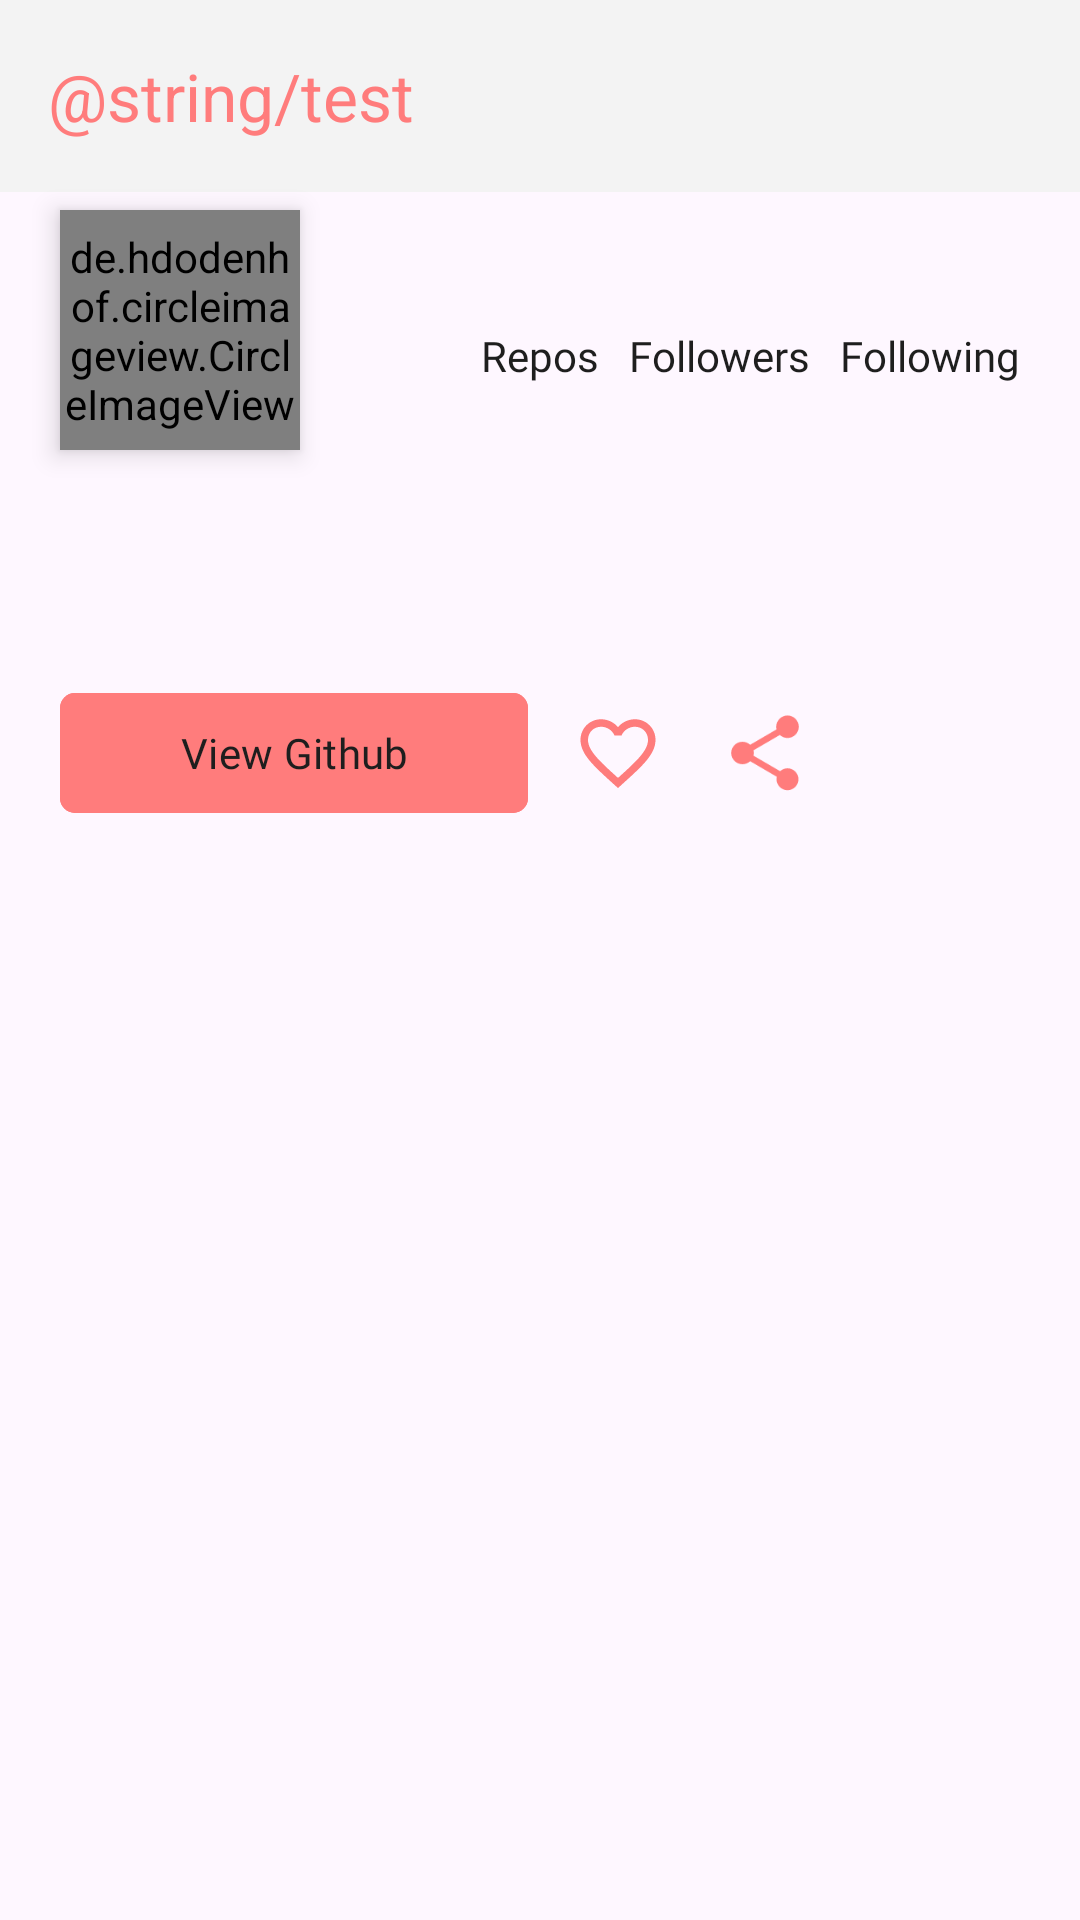

Locate icon controls on the screen. Image size 1080 x 1920, boxes as (x1, y1, x2, y2).
favorite: (580, 719, 656, 788)
share: (731, 715, 799, 791)
